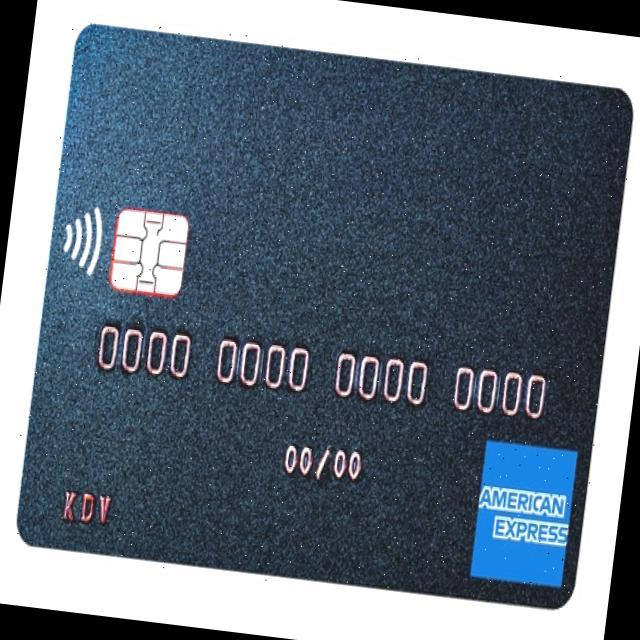payment_card: (16, 25, 631, 611)
